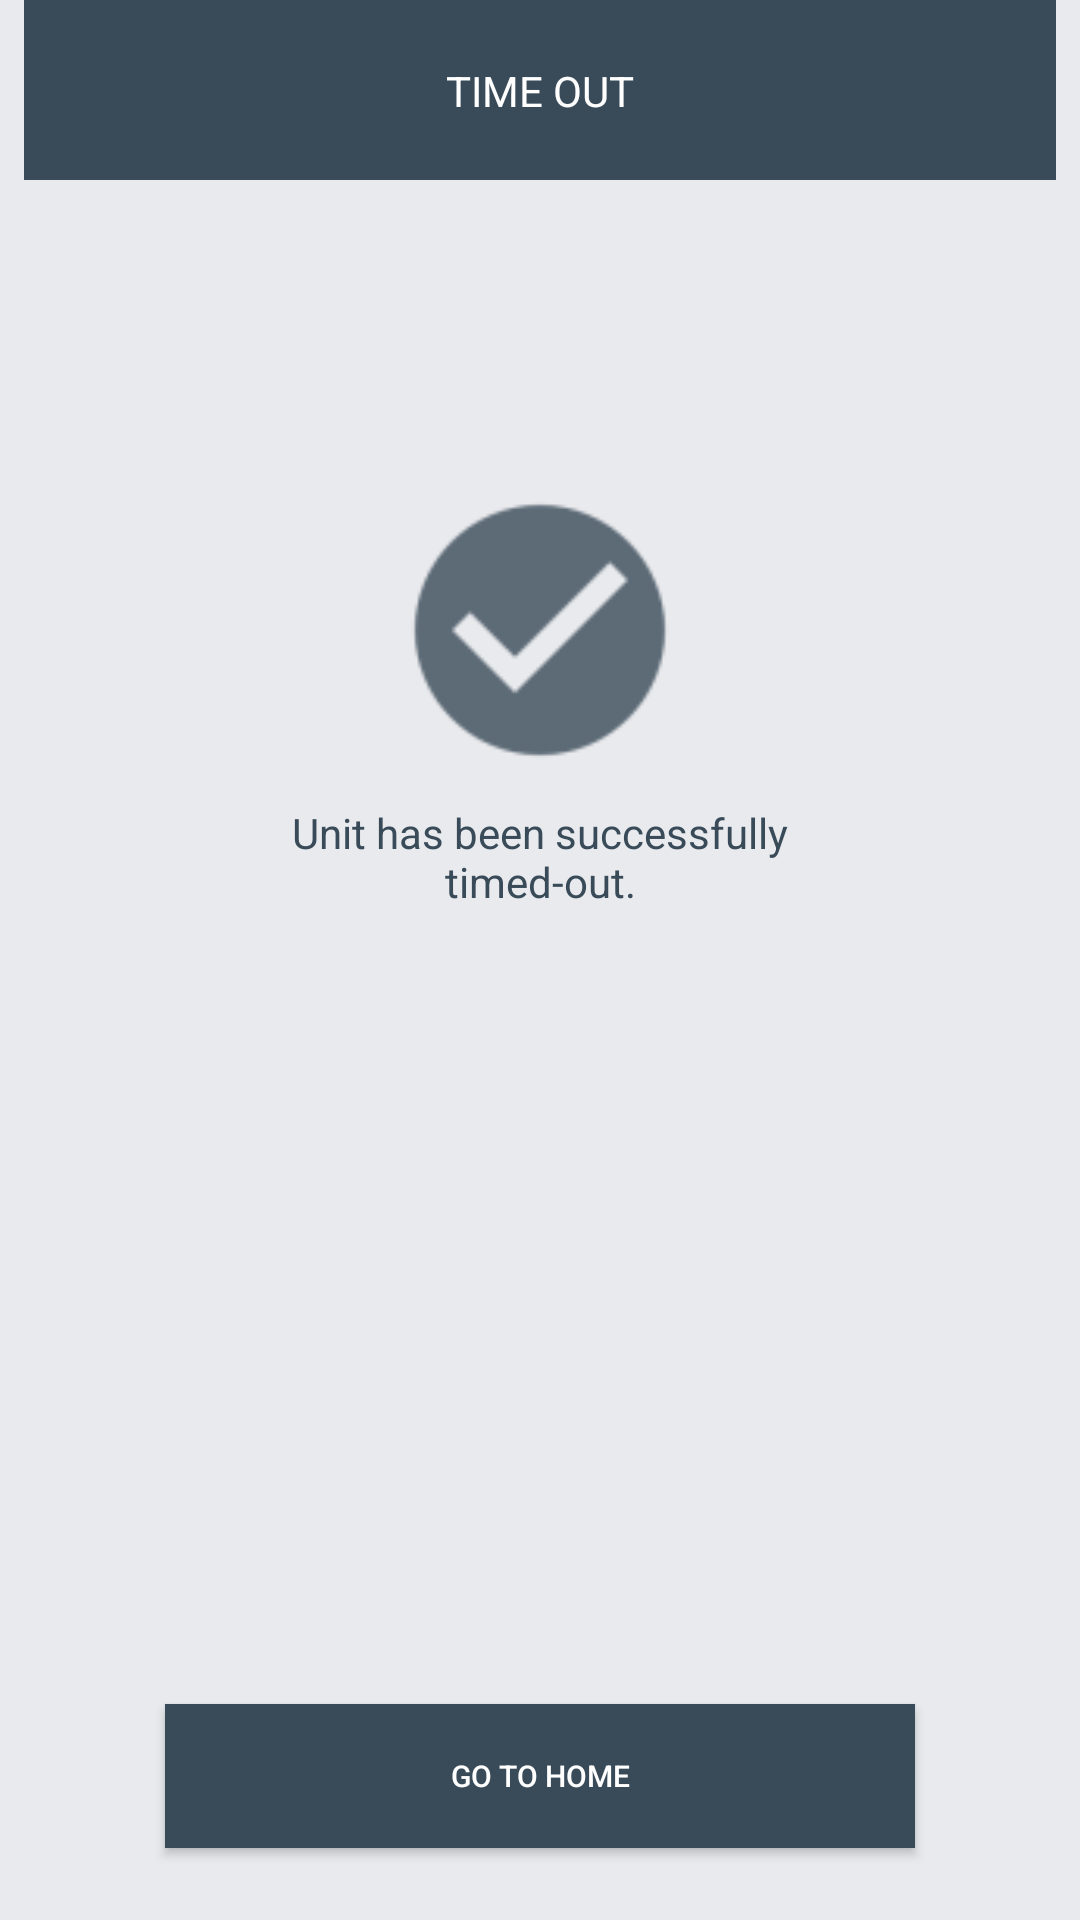

Where to tap for icons on this 1080*1920 app screen, as (x,y):
check: (540,630)
